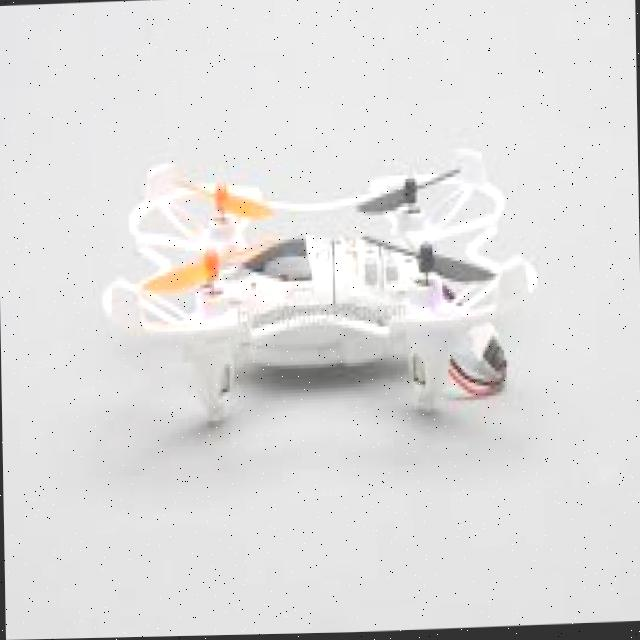drone: (87, 131, 552, 452)
